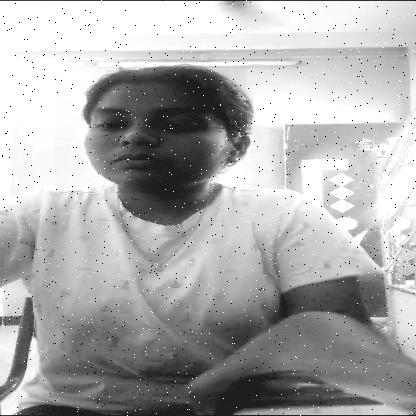Normal: (55, 67, 247, 193)
